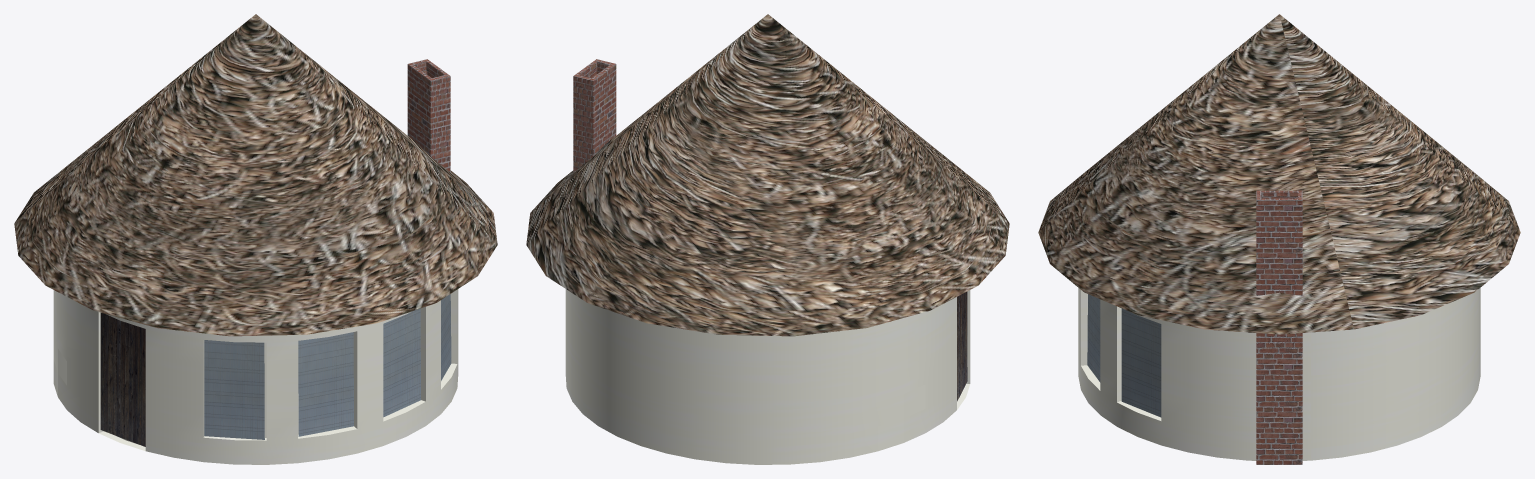
The model's file is bungalow.fbx.
3 views of the same model, side by side, from view 1: azimuth 30°, elevation 25°; view 2: azimuth 150°, elevation 25°; view 3: azimuth 270°, elevation 25° (orthographic).
Visible parts, largest first — view 1: pCone1, pCylinder1, pPlane3, pPlane5, pPlane1, pPlane2, polySurface1, pCube5, pPlane4; view 2: pCone1, pCylinder1, polySurface1, pCube5, pPlane5; view 3: pCone1, pCylinder1, pPlane4, polySurface1, pCube2, pCube6, pCube5, pCube4, pPlane2.
Boxes of the visible parts, x1,y1,x2,y2 form: pCone1: [14, 14, 497, 336]; pCylinder1: [53, 289, 458, 464]; pPlane3: [204, 340, 264, 439]; pPlane5: [100, 313, 145, 446]; pPlane1: [298, 332, 353, 436]; pPlane2: [383, 308, 420, 417]; polySurface1: [407, 59, 450, 134]; pCube5: [407, 118, 450, 172]; pPlane4: [441, 294, 451, 380]; pCone1: [526, 14, 1009, 336]; pCylinder1: [565, 289, 970, 464]; polySurface1: [573, 59, 616, 134]; pCube5: [573, 118, 616, 172]; pPlane5: [957, 292, 967, 401]; pCone1: [1038, 14, 1520, 334]; pCylinder1: [1078, 288, 1480, 460]; pPlane4: [1121, 308, 1161, 417]; polySurface1: [1256, 190, 1302, 252]; pCube2: [1256, 358, 1302, 411]; pCube6: [1256, 412, 1302, 464]; pCube5: [1256, 252, 1302, 295]; pCube4: [1256, 333, 1302, 358]; pPlane2: [1087, 294, 1100, 382].
Bounding box in the file's own units: 12 × 9.96 × 12.
Materials: 5 (5 with a texture image).
